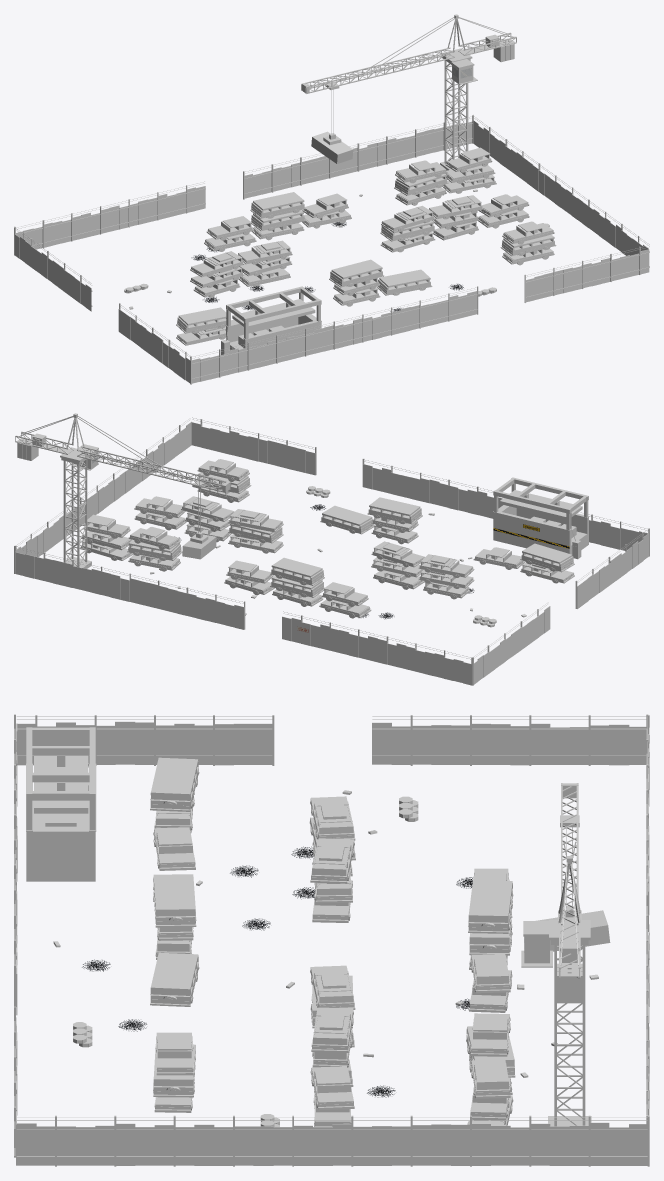
File: junkyard.glb
3 views of the same model, one above another, from view 1: azimuth 30°, elevation 25°; view 2: azimuth 150°, elevation 25°; view 3: azimuth 270°, elevation 25° (orthographic). The views are drawn at different scales.
Visible parts, largest first — view 1: junkyard; view 2: junkyard; view 3: junkyard.
Part boxes in pixels (bbox=[...]): junkyard: bbox=[14, 14, 649, 384]; junkyard: bbox=[14, 413, 649, 685]; junkyard: bbox=[14, 714, 649, 1166].
Size of the model in its own units: 50.07 by 15.47 by 32.19.
Materials: 4 (3 with a texture image).
